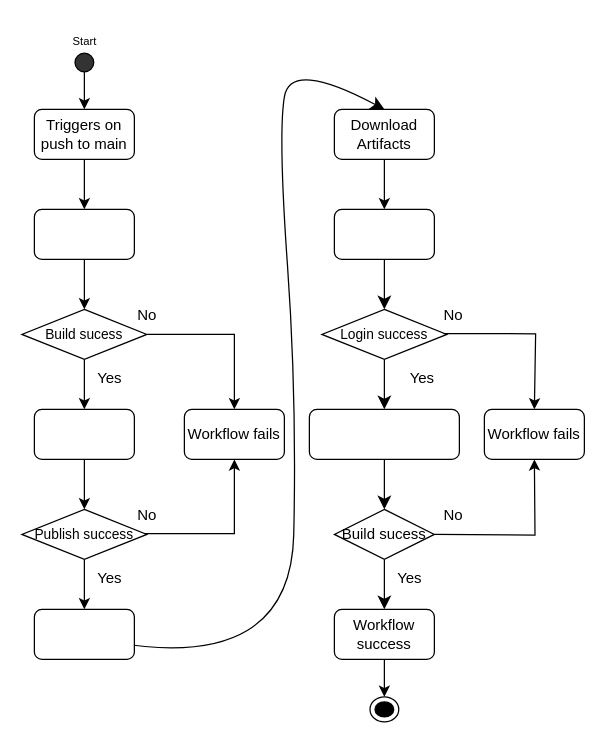
Image size: 606x744. Some labels were removed from this diagram. Each missing label, with the centre of its shape:
"Build the project" goes at point (83, 233).
"Deploy to Azure WebApp" goes at point (383, 433).
"Login to Azure" goes at point (383, 233).
"Publish the app" goes at point (83, 433).
"Upload Artifacts" goes at point (83, 633).
